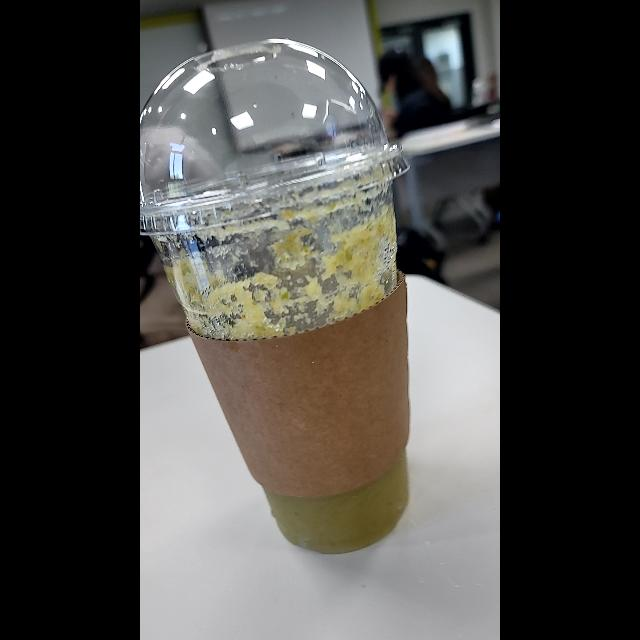plastic_cup: (140, 34, 418, 558)
plastic_cup_lid: (140, 34, 406, 230)
